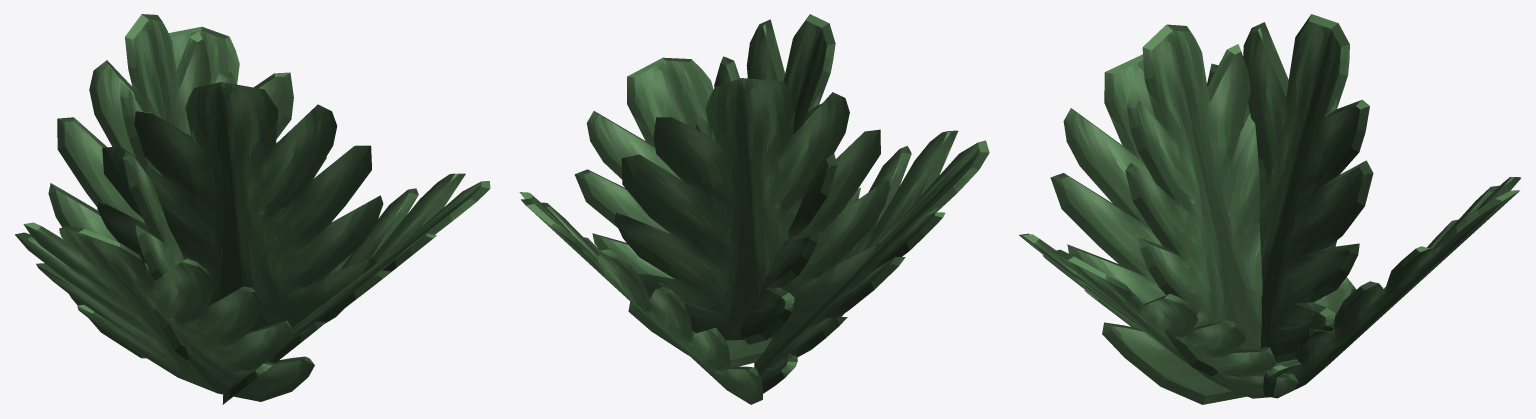
Rendered from Bush_01.fbx.
The picture shows the model from 3 angles, left to right: view 1: azimuth 30°, elevation 25°; view 2: azimuth 150°, elevation 25°; view 3: azimuth 270°, elevation 25°; orthographic projection. The views are drawn at different scales.
Visible parts, largest first — view 1: Bush01.003; view 2: Bush01.003; view 3: Bush01.003.
Part boxes in pixels (x1,y1,x2,y2): Bush01.003: (15,14,490,404); Bush01.003: (519,14,989,404); Bush01.003: (1019,14,1520,404).
Size of the model in its own units: 402 by 338 by 430.
